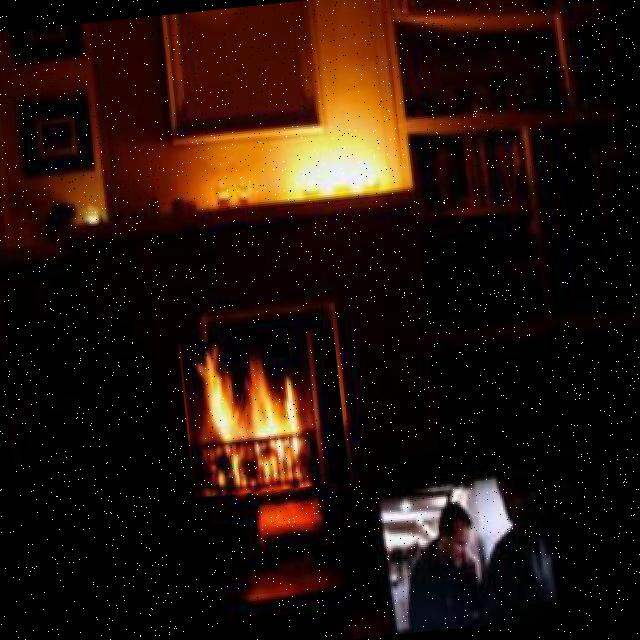fire: (178, 328, 349, 498)
